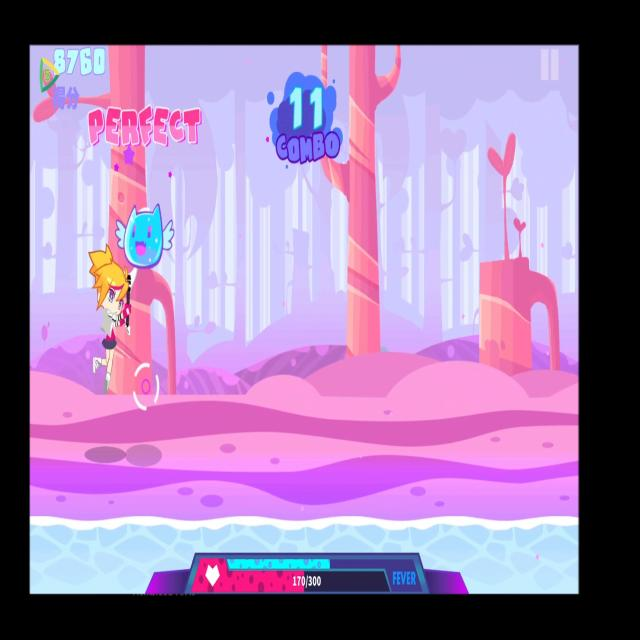mao: (114, 200, 177, 268)
